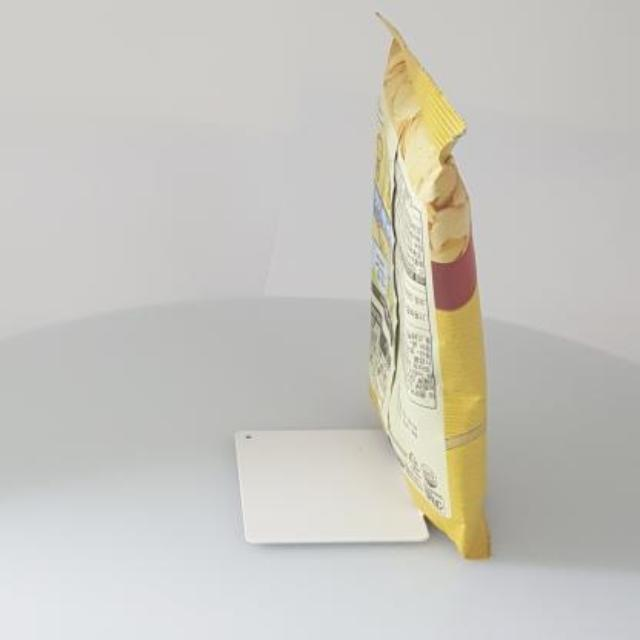snack_bag: (354, 7, 526, 570)
